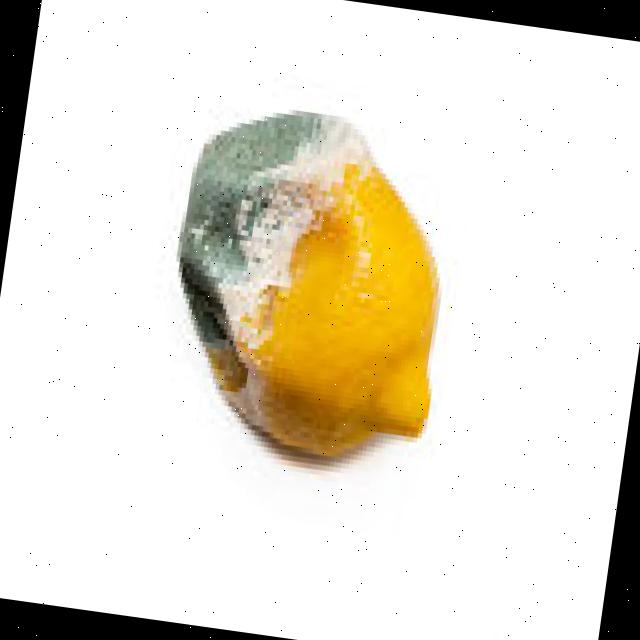Rotten: (151, 91, 468, 470)
